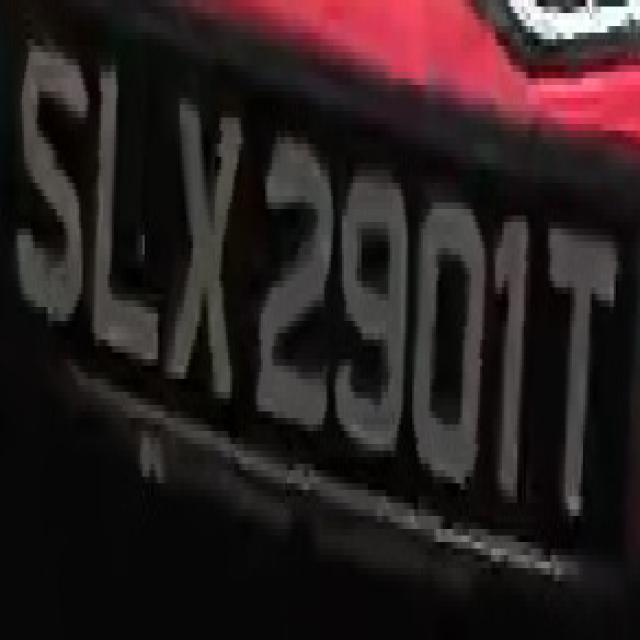0: (410, 163, 482, 503)
1: (491, 157, 535, 536)
2: (258, 92, 338, 470)
9: (335, 130, 410, 477)
L: (85, 26, 169, 392)
S: (15, 7, 88, 340)
T: (537, 183, 620, 535)
X: (167, 58, 254, 450)
